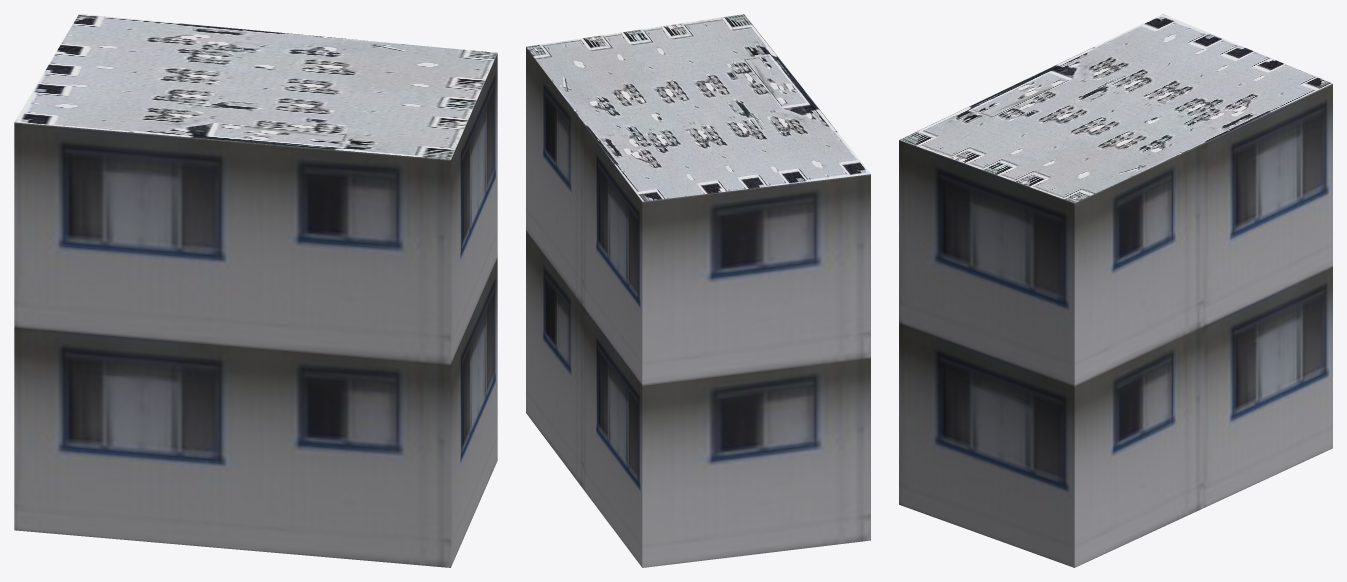
Rendered from ResTex__450.fbx.
3 views of the same model, side by side, from view 1: azimuth 30°, elevation 25°; view 2: azimuth 150°, elevation 25°; view 3: azimuth 270°, elevation 25° (orthographic). The views are drawn at different scales.
Parts seen in each view (by area): view 1: CityEngineMaterial_9_m, CityEngineMaterial_4_m; view 2: CityEngineMaterial_9_m, CityEngineMaterial_4_m; view 3: CityEngineMaterial_9_m, CityEngineMaterial_4_m.
Boxes of the visible parts, <box> form: CityEngineMaterial_9_m: <box>14,53,497,567</box>; CityEngineMaterial_4_m: <box>14,14,497,159</box>; CityEngineMaterial_9_m: <box>526,47,870,567</box>; CityEngineMaterial_4_m: <box>526,14,870,201</box>; CityEngineMaterial_9_m: <box>899,84,1332,567</box>; CityEngineMaterial_4_m: <box>899,14,1332,202</box>.
Size of the model in its own units: 6.68 by 6 by 6.47.
Materials: 2 (2 with a texture image).
